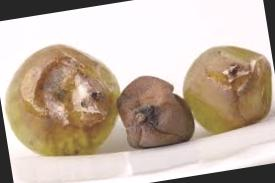Grape Rotten: (0, 34, 128, 166), (175, 37, 275, 138), (111, 68, 196, 152)
